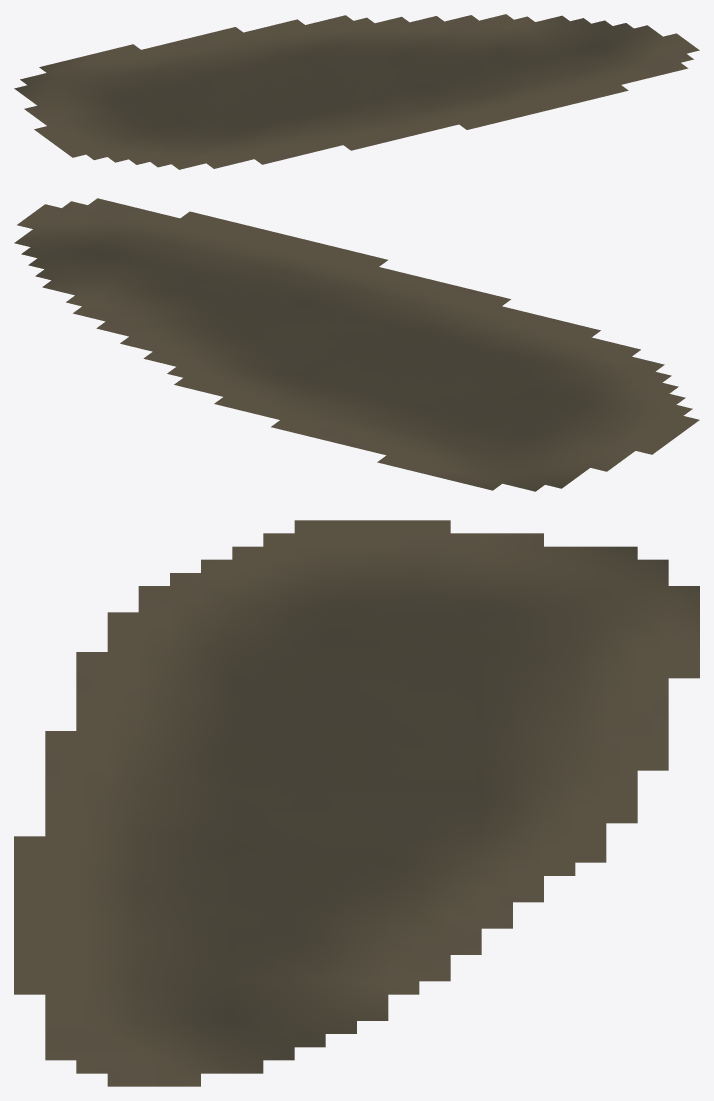
Rendered from ISL2_MudPuddle_2.fbx.
The picture shows the model from 3 angles, top to bottom: view 1: azimuth 30°, elevation 25°; view 2: azimuth 150°, elevation 25°; view 3: azimuth 270°, elevation 25°; orthographic projection. The views are drawn at different scales.
Parts seen in each view (by area): view 1: ISL2_MudPuddle_2.001; view 2: ISL2_MudPuddle_2.001; view 3: ISL2_MudPuddle_2.001.
Part boxes in pixels (x1=…): ISL2_MudPuddle_2.001: x1=14, y1=14, x2=699, y2=169; ISL2_MudPuddle_2.001: x1=14, y1=198, x2=699, y2=491; ISL2_MudPuddle_2.001: x1=14, y1=520, x2=699, y2=1086.
Bounding box in the file's own units: 15.05 × 0 × 7.7.
